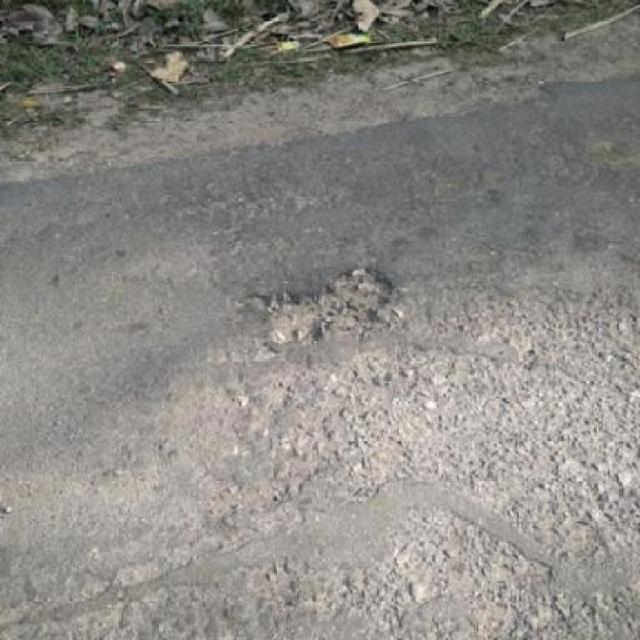pothole: (252, 262, 397, 347)
